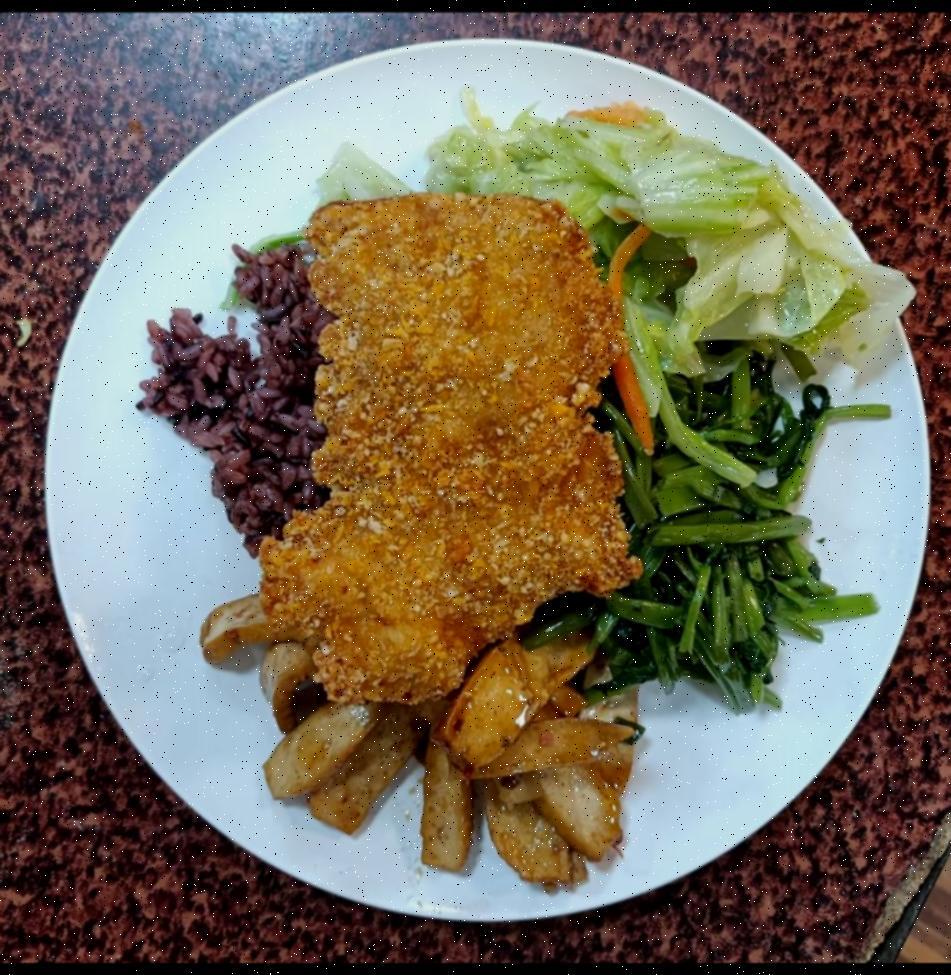big fried chicken leg: (24, 35, 928, 943)
braised fish: (156, 256, 570, 630)
braised fish fillet: (224, 664, 644, 898), (438, 120, 848, 353), (595, 373, 806, 700)
braised pork: (253, 178, 645, 708)
